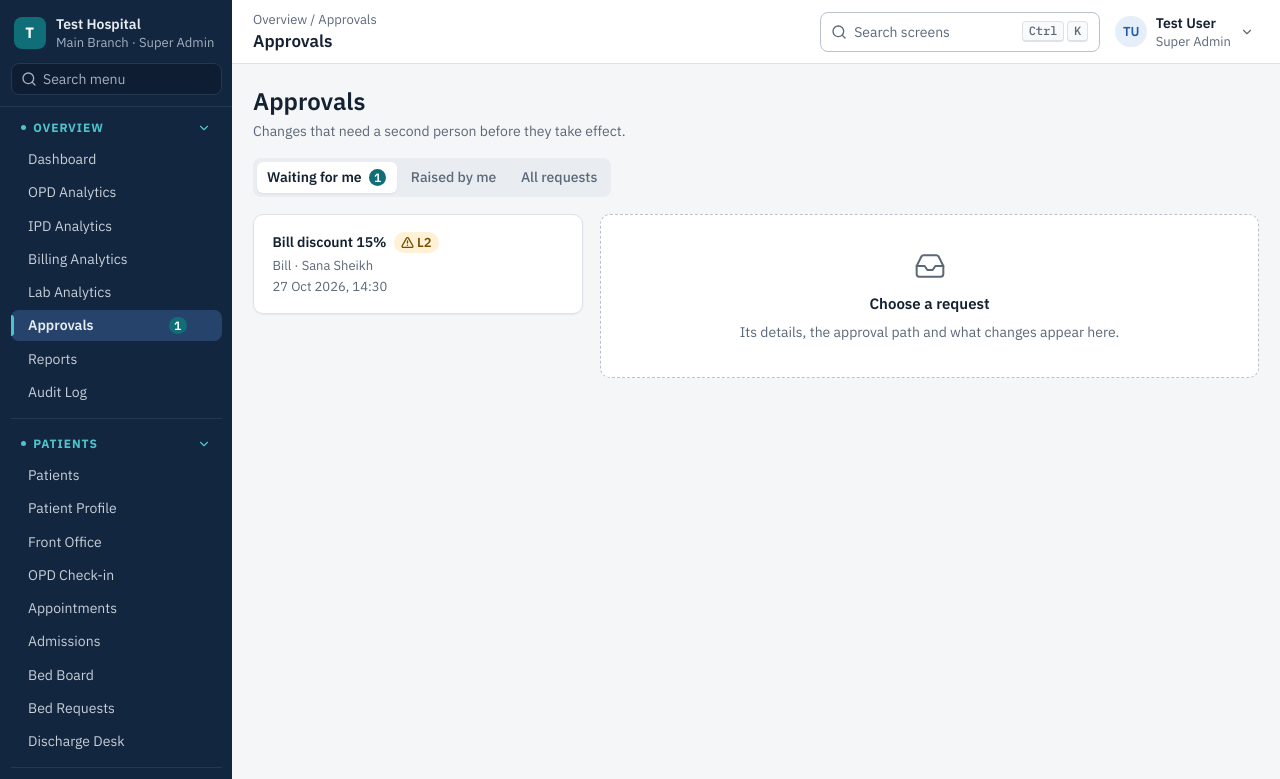
it: Approvals inbox › explains MAKER_CANNOT_CHECK and APPROVAL_CLOSED
The width and height of the screenshot is (1280, 779).
Click the button "Bill discount 15% L2 Bill · Sana Sheikh 27 Oct 2026, 14:30" at (330, 242), box [261,222,574,306]
(page scrolled)
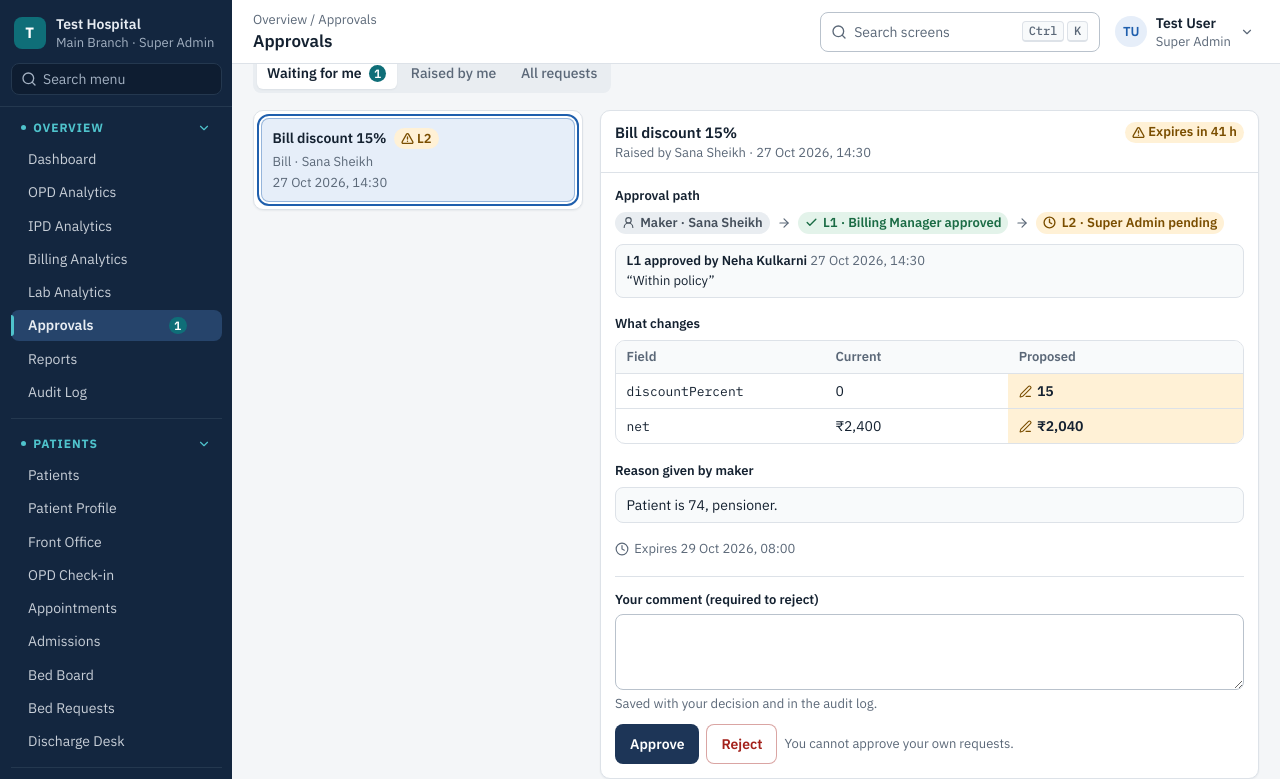
Click the button "Approve" at (657, 744), box [615,724,700,764]
(page scrolled)
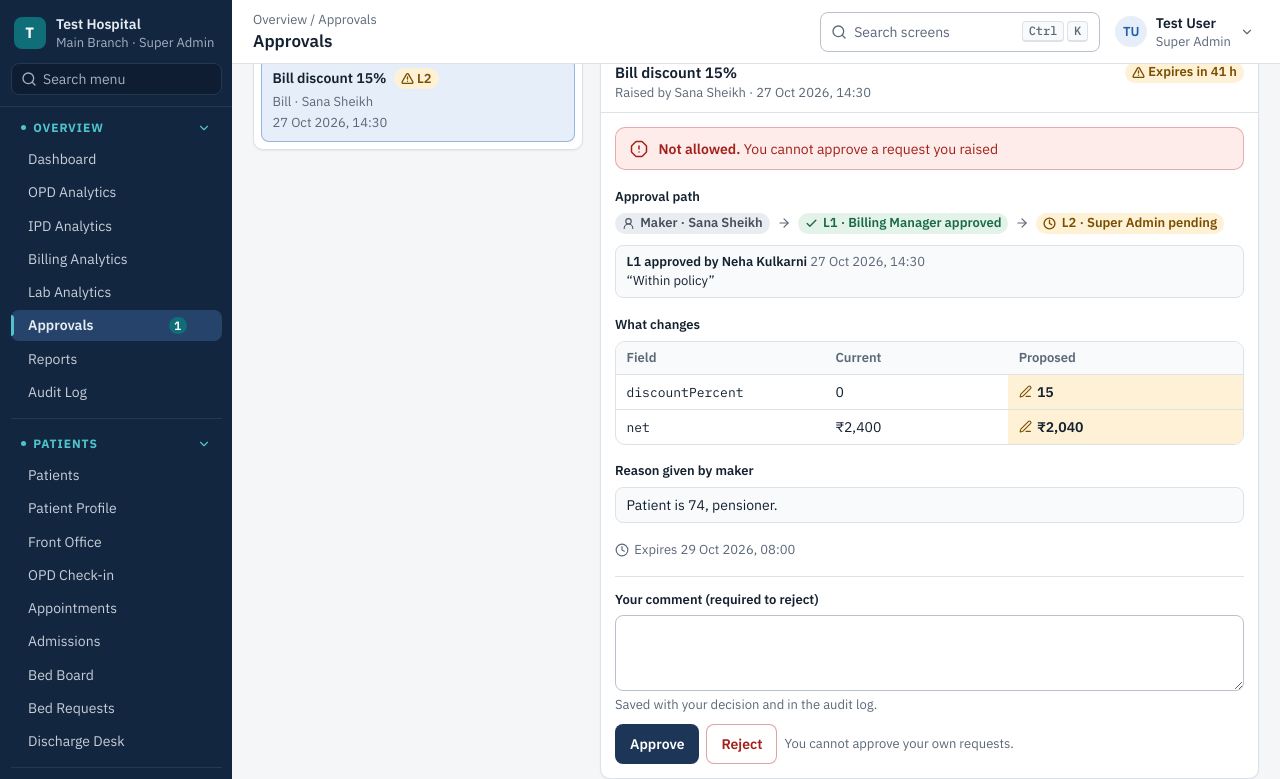
Expected: the message reads "Not allowed. You cannot approve a request you raised", [615,127,1244,170]
Click the button "Approve" at (657, 744), box [615,724,700,764]
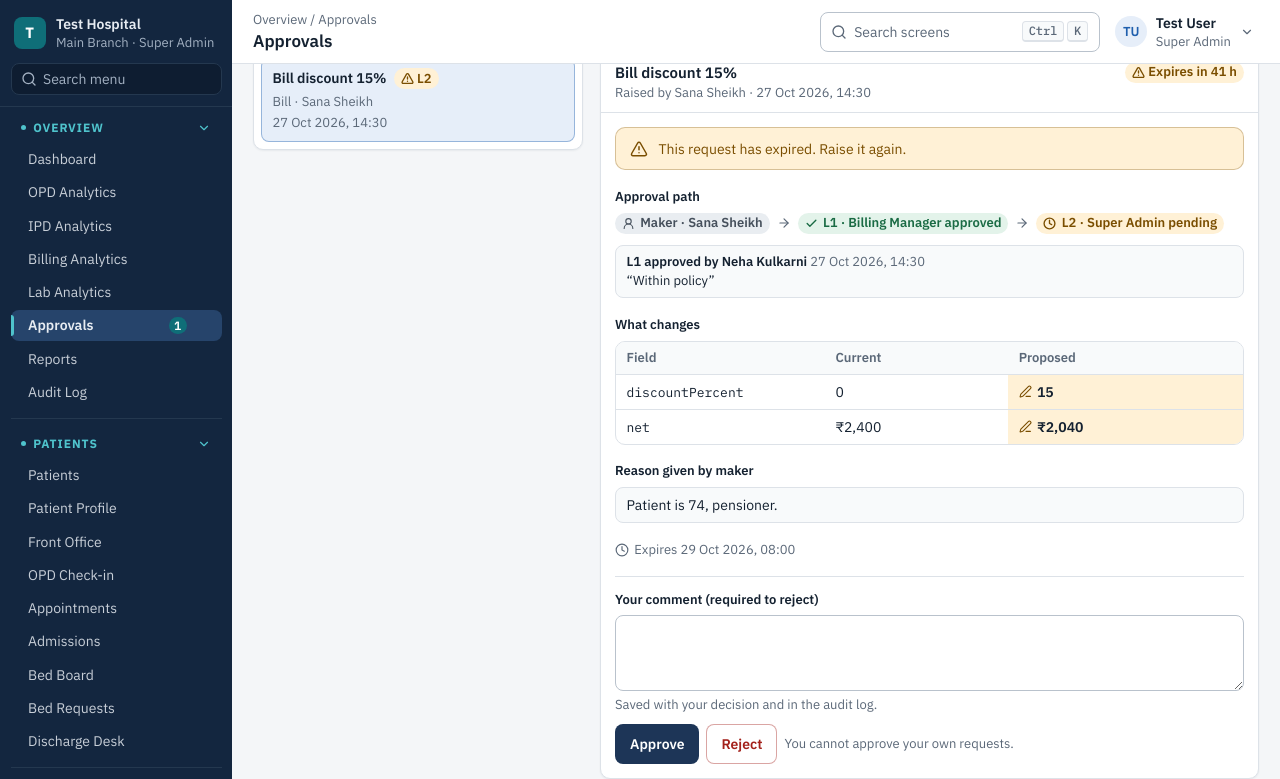
Expected: the message reads "This request has expired. Raise it again.", [658,140,906,158]
